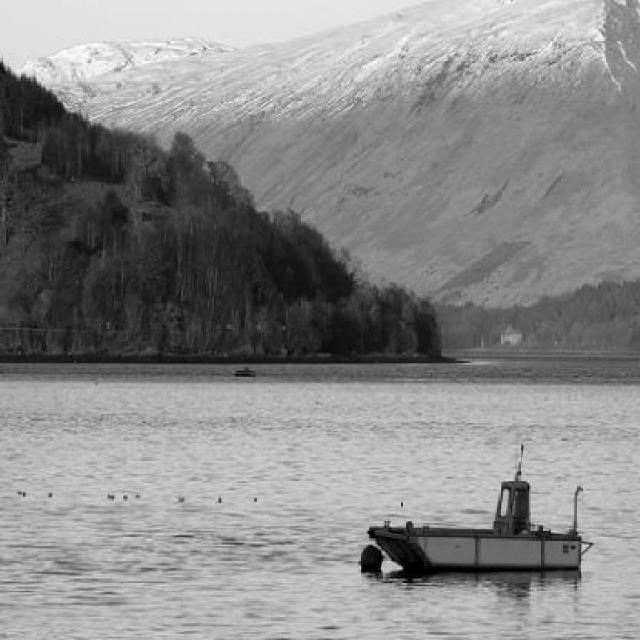ship: (365, 474, 580, 568)
